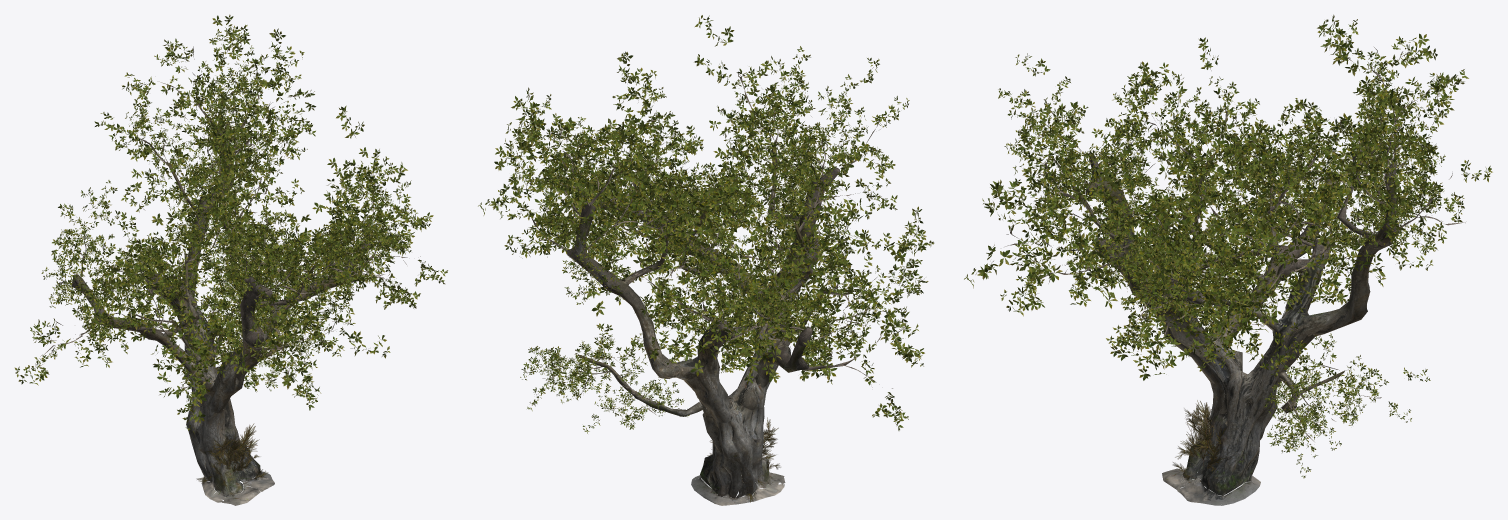
Rendered from photographed_vegetation.glb.
The picture shows the model from 3 angles, left to right: view 1: azimuth 30°, elevation 25°; view 2: azimuth 150°, elevation 25°; view 3: azimuth 270°, elevation 25°; orthographic projection. The views are drawn at different scales.
Visible parts, largest first — view 1: tree-lod0, shrub-lod0, shrub-far-lod0; view 2: tree-lod0, shrub-lod0; view 3: tree-lod0, shrub-lod0, shrub-far-lod0.
Boxes of the visible parts, left/top/right/bottom form: tree-lod0: left=14, top=14, right=447, bottom=505; shrub-lod0: left=196, top=434, right=267, bottom=488; shrub-far-lod0: left=212, top=423, right=259, bottom=461; tree-lod0: left=478, top=15, right=934, bottom=505; shrub-lod0: left=707, top=417, right=780, bottom=502; tree-lod0: left=964, top=14, right=1492, bottom=505; shrub-lod0: left=1173, top=403, right=1228, bottom=481; shrub-far-lod0: left=1187, top=400, right=1225, bottom=459.
Bounding box in the file's own units: 5.11 × 5.4 × 5.18.
Materials: 11 (11 with a texture image).
